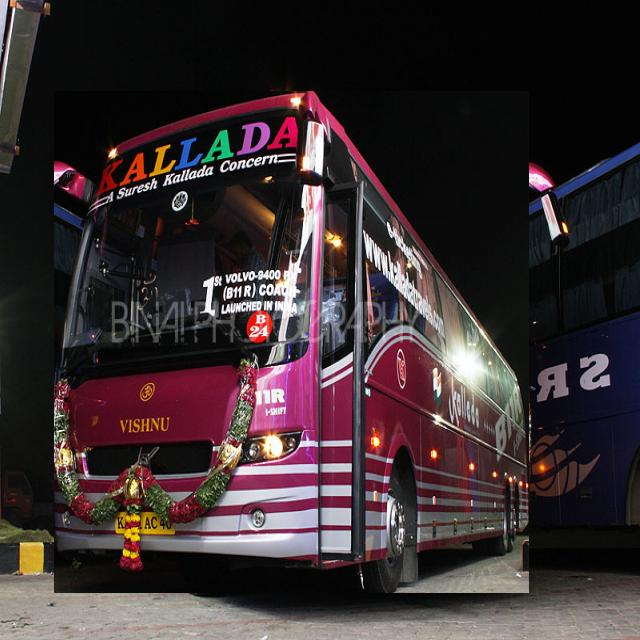bus: (54, 92, 529, 593), (500, 143, 640, 539)
